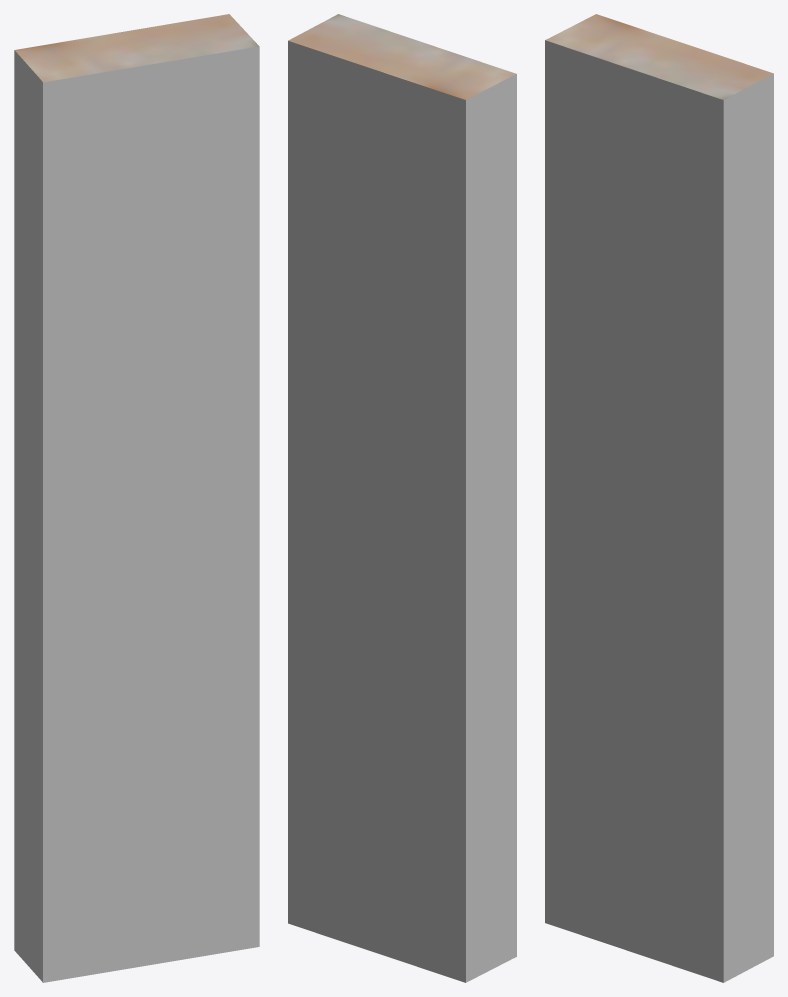
File: DEBW_001000gcR03.gltf
3 renders of one model, left to right at view 1: azimuth 30°, elevation 25°; view 2: azimuth 150°, elevation 25°; view 3: azimuth 330°, elevation 25°, orthographic.
Visible parts, largest first — view 1: Z_UP; view 2: Z_UP; view 3: Z_UP.
Boxes of the visible parts, x1,y1,x2,y2 form: Z_UP: (14,14,259,982); Z_UP: (288,14,516,982); Z_UP: (545,14,773,982).
Size of the model in its own units: 3.75 by 15.37 by 1.78.
Materials: 2 (1 with a texture image).
